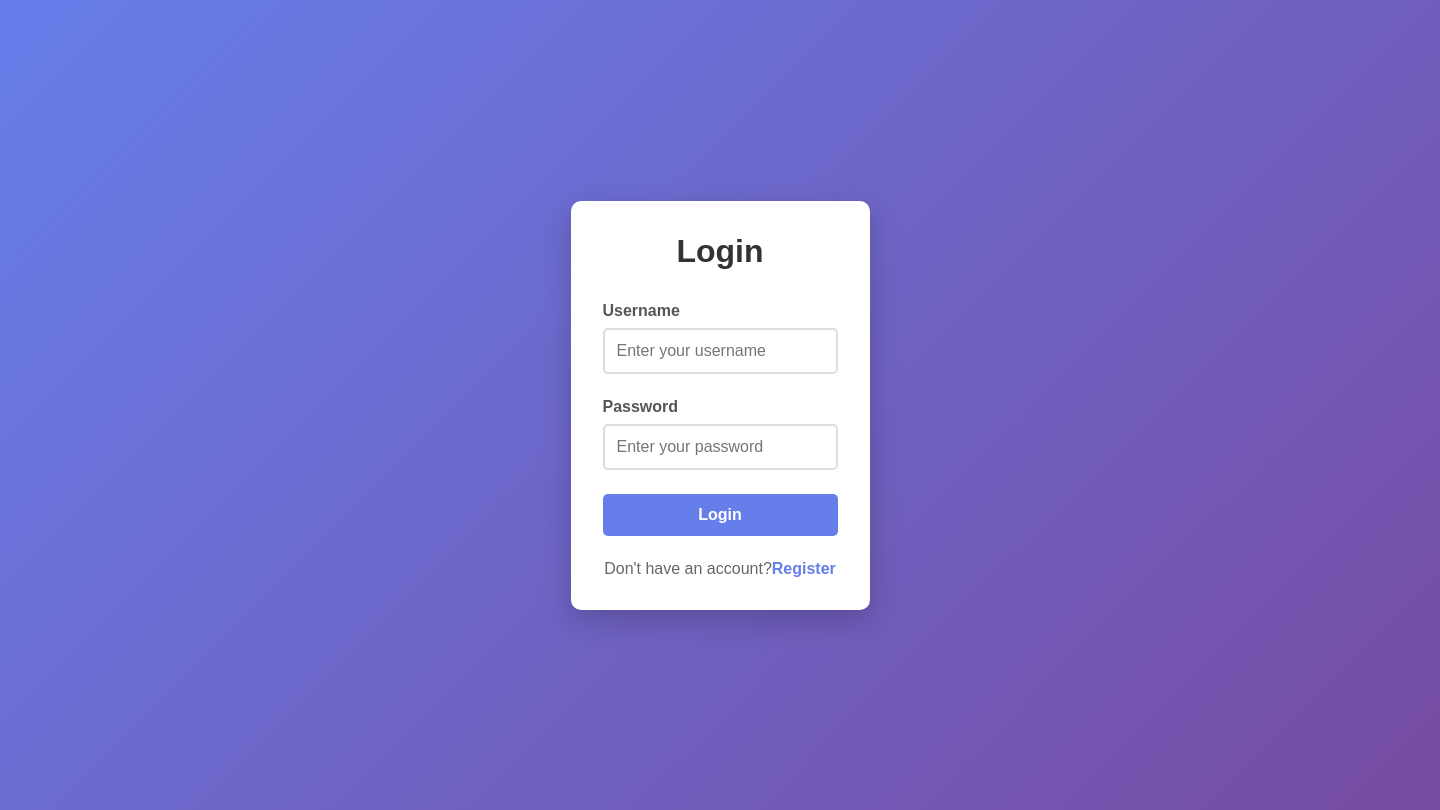
Test case: Login Component › mostra erro de conexão
In the field labelled "Username": (720, 350) [602,328,838,374], type "testuser"
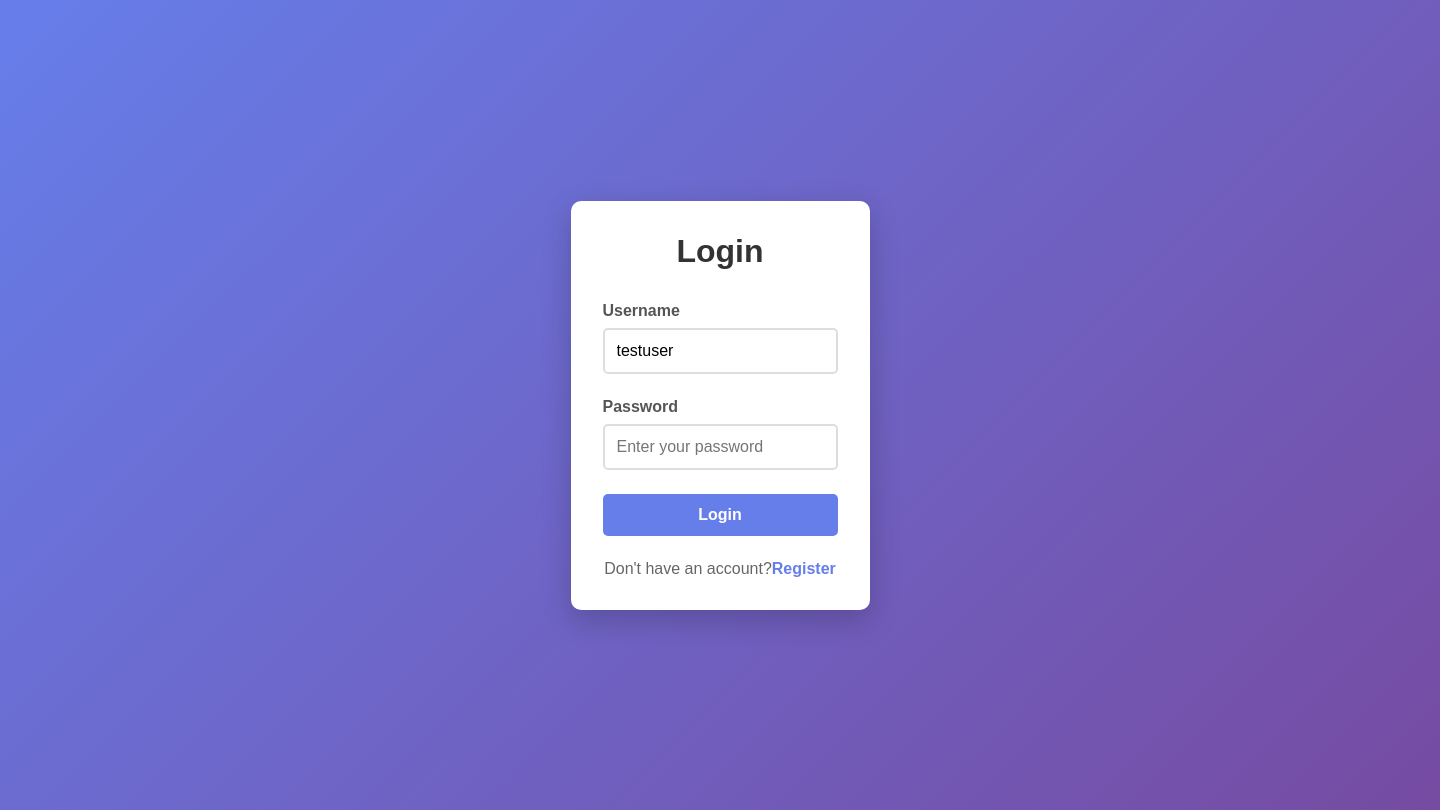
In the password field labelled "Password": (720, 446) [602,424,838,470], type "password123"
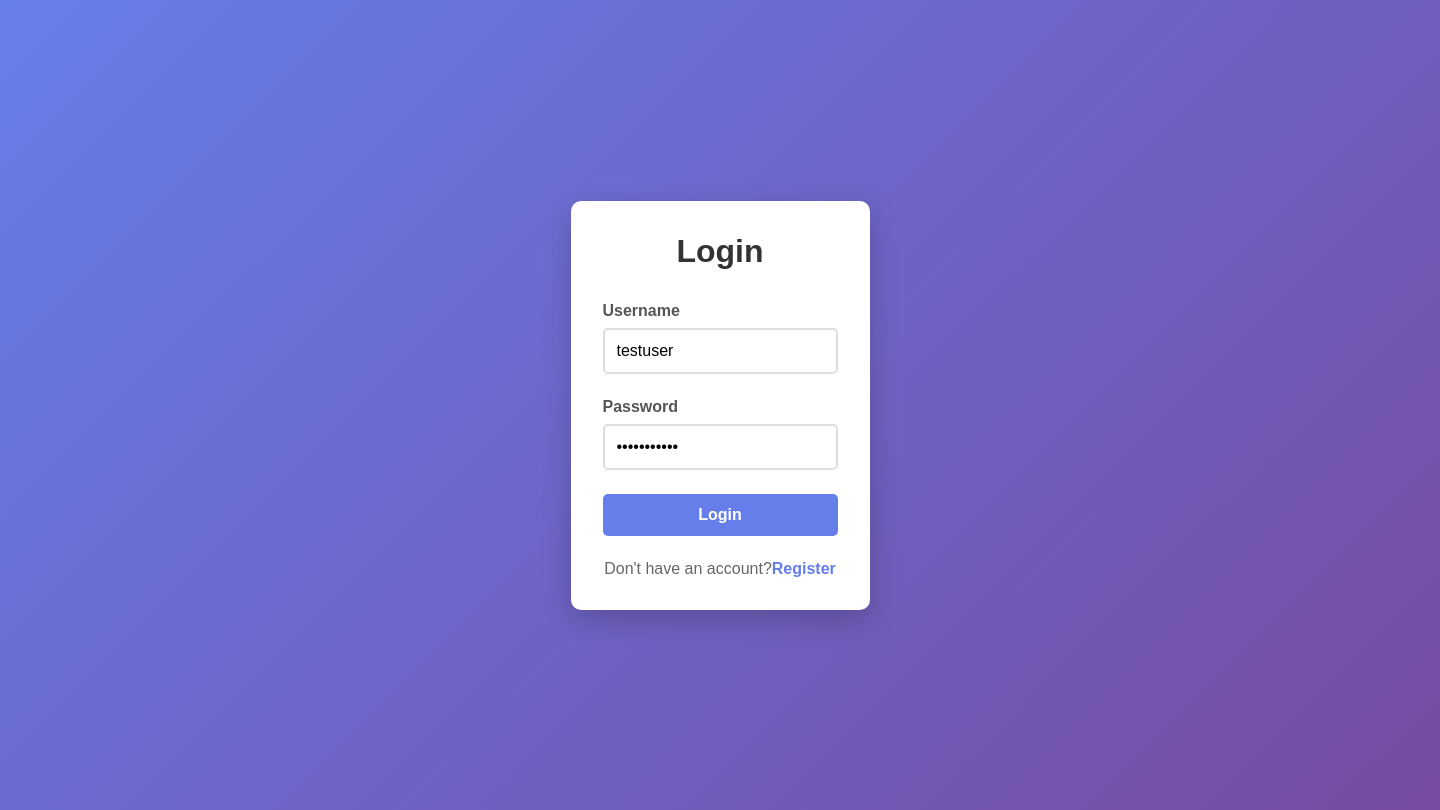
Click the button "Login": (720, 514) [602,494,838,536]
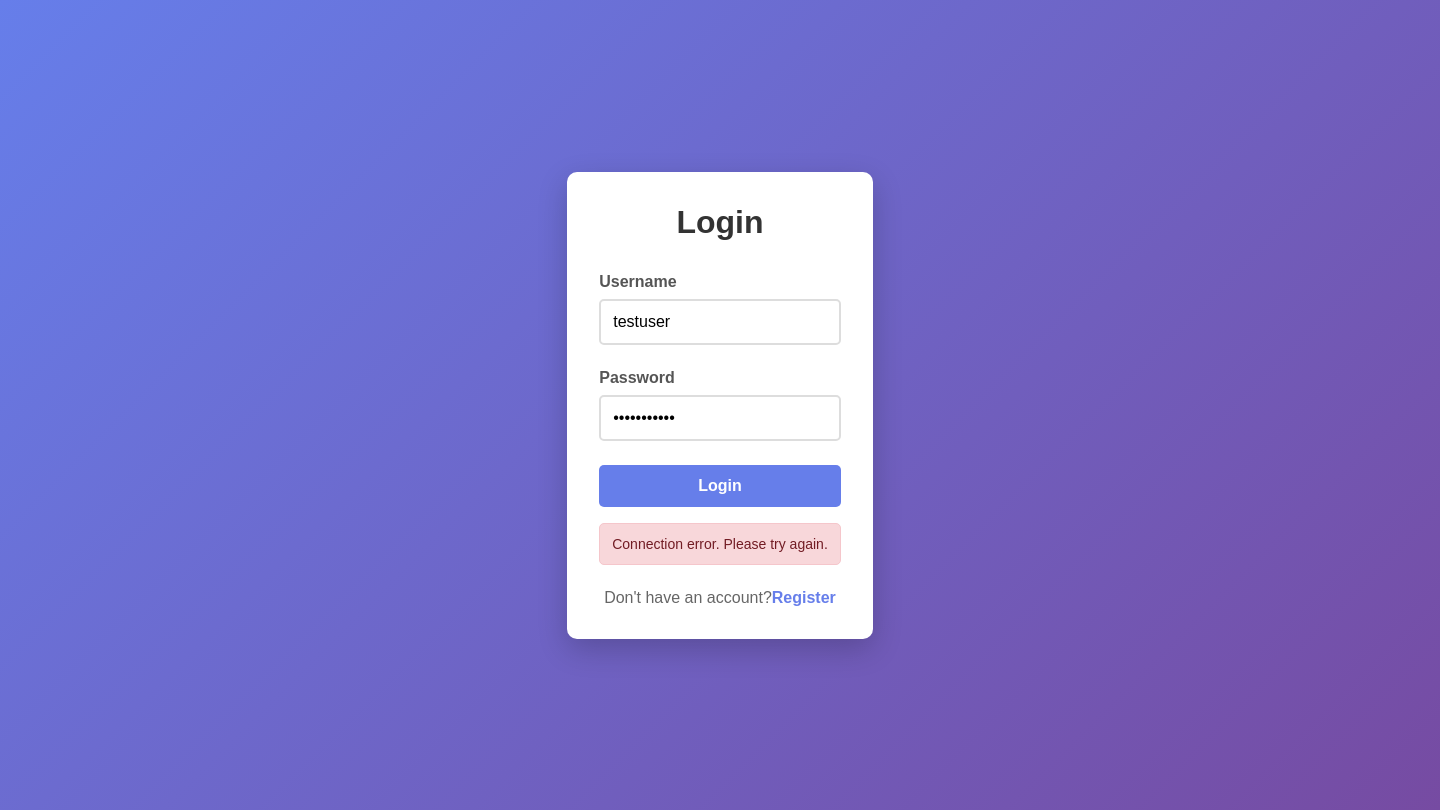
Expected: the text "Connection error. Please try again." is shown, [599,522,841,564]
